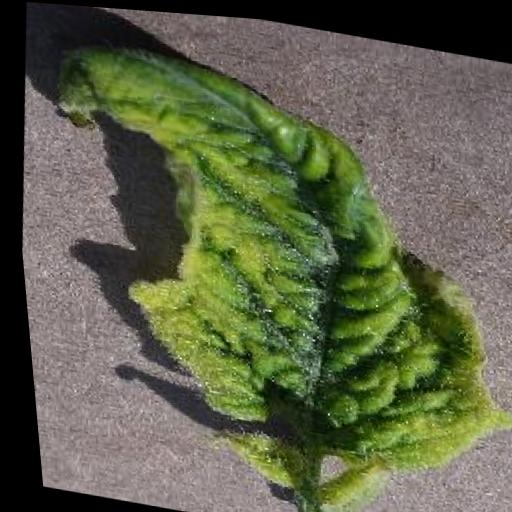Yellow Leaf Curl Virus: (7, 28, 512, 512)
